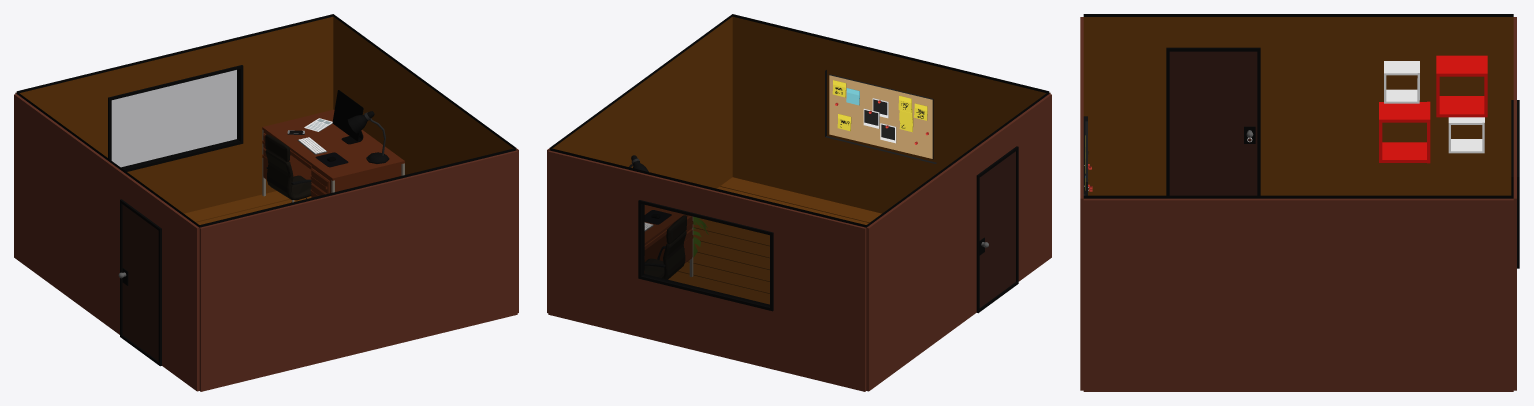
Rendered from bureau.obj.
3 views of the same model, side by side, from view 1: azimuth 30°, elevation 25°; view 2: azimuth 150°, elevation 25°; view 3: azimuth 270°, elevation 25° (orthographic). The views are drawn at different scales.
Parts seen in each view (by area): view 1: model:Mesh, fenetre, bureau, chaise, MonitorFBXASC046001FBXASC124iMacFBXASC124DupliFBXASC124 MonitorF, lampe; view 2: model:Mesh, fenetre, pegboard, bureau, chaise; view 3: model:Mesh, etagere, pegboard.
Part boxes in pixels (x1,y1,x2,y2): model:Mesh: (14,14,518,391); fenetre: (112,70,238,168); bureau: (262,109,404,197); chaise: (265,134,311,202); MonitorFBXASC046001FBXASC124iMacFBXASC124DupliFBXASC124 MonitorF: (332,90,363,144); lampe: (347,111,389,163); model:Mesh: (547,14,1051,391); fenetre: (642,204,769,306); pegboard: (825,70,936,163); bureau: (644,205,693,276); chaise: (644,215,686,279); model:Mesh: (1080,14,1519,391); etagere: (1379,55,1487,163); pegboard: (1083,116,1092,195).
Bounding box in the file's own units: 5.3 × 2.55 × 5.21.
